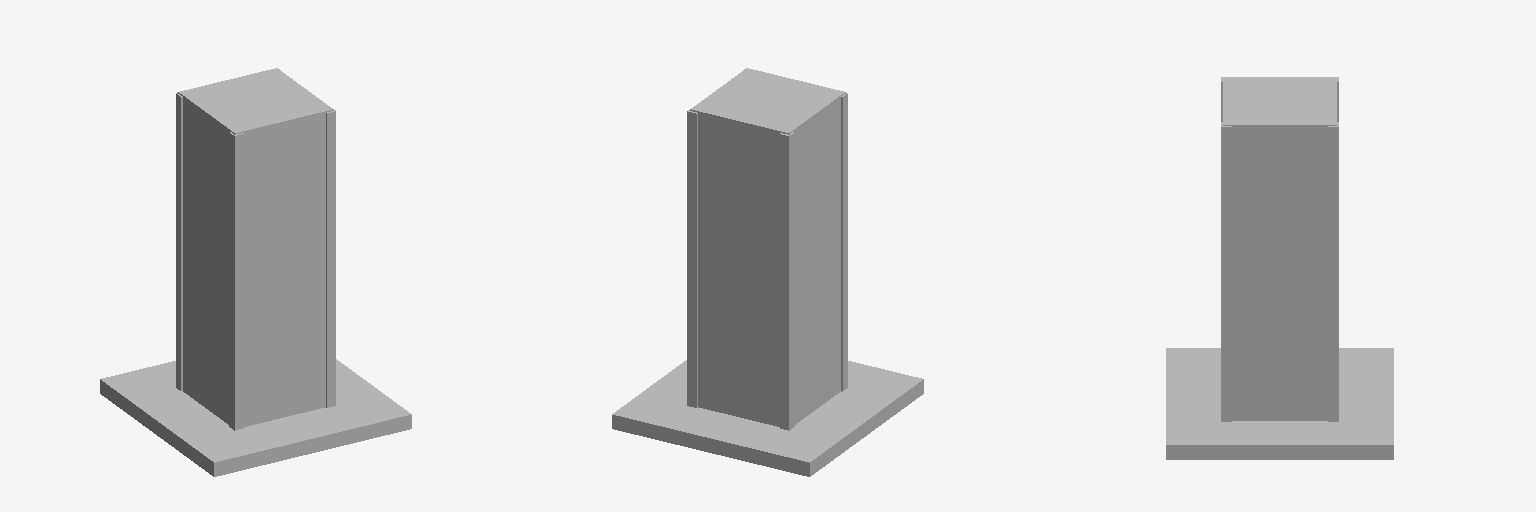
The model's file is WaterLantern1_low.obj.
3 renders of one model, left to right at view 1: azimuth 30°, elevation 25°; view 2: azimuth 150°, elevation 25°; view 3: azimuth 270°, elevation 25°, orthographic.
Parts seen in each view (by area): view 1: pCube23; view 2: pCube23; view 3: pCube23.
Boxes of the visible parts, x1,y1,x2,y2 form: pCube23: [100, 68, 411, 476]; pCube23: [612, 68, 923, 476]; pCube23: [1166, 77, 1393, 459].
Size of the model in its own units: 13.55 by 20.33 by 13.55.